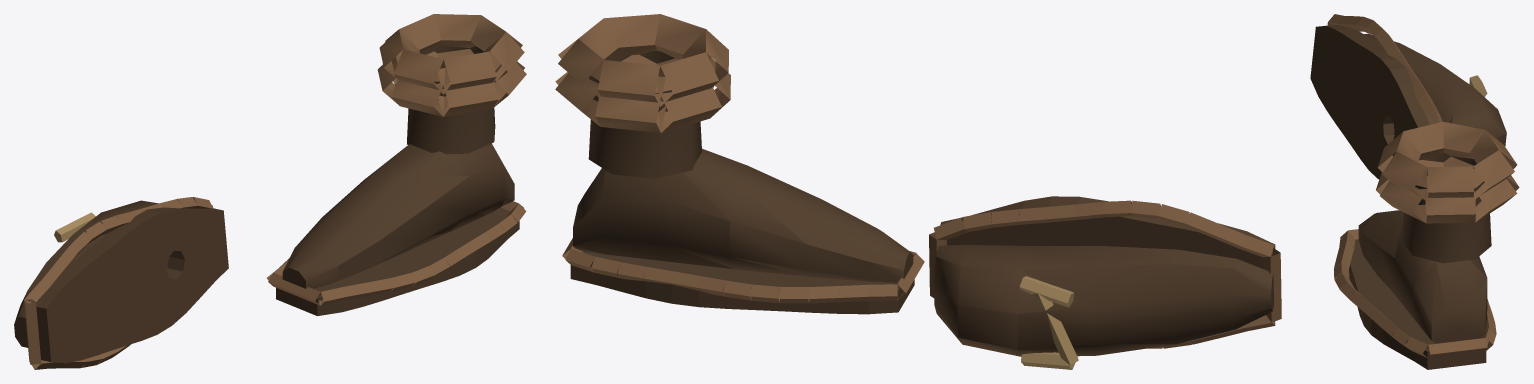
The model's file is SM_LPD_Furn_KitBoots_01.fbx.
3 views of the same model, side by side, from view 1: azimuth 30°, elevation 25°; view 2: azimuth 150°, elevation 25°; view 3: azimuth 270°, elevation 25° (orthographic). The views are drawn at different scales.
Parts seen in each view (by area): view 1: SM_LPD_Furn_KitBoots_01; view 2: SM_LPD_Furn_KitBoots_01; view 3: SM_LPD_Furn_KitBoots_01.
Boxes of the visible parts, box(x1,y1,x2,y2) form: SM_LPD_Furn_KitBoots_01: box(14, 14, 526, 369); SM_LPD_Furn_KitBoots_01: box(555, 14, 1281, 369); SM_LPD_Furn_KitBoots_01: box(1310, 14, 1519, 369).
Bounding box in the file's own units: 0.6178 × 0.215 × 0.2074.
